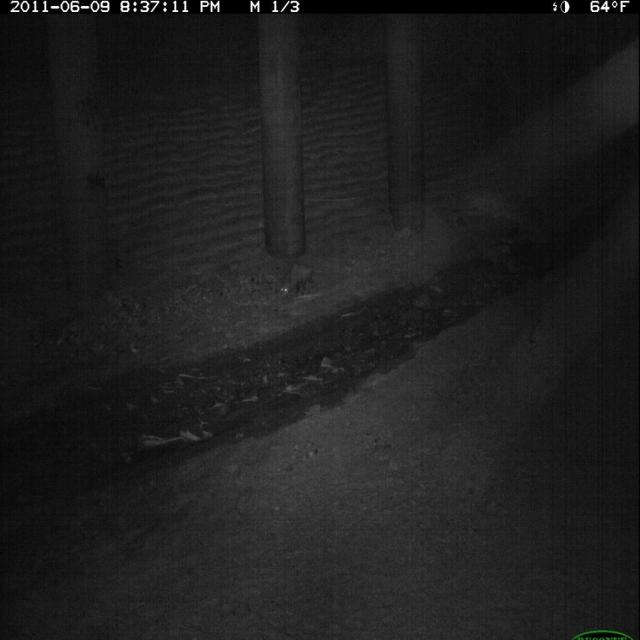opossum: (277, 257, 328, 303)
